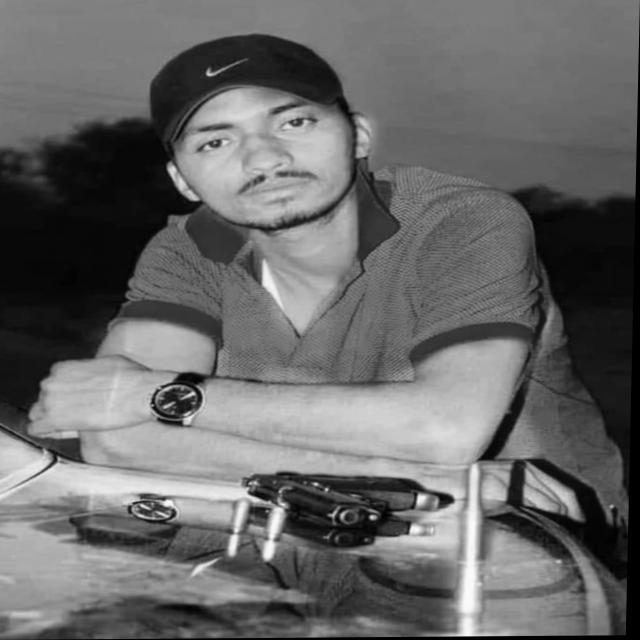weapon: (240, 468, 447, 534)
